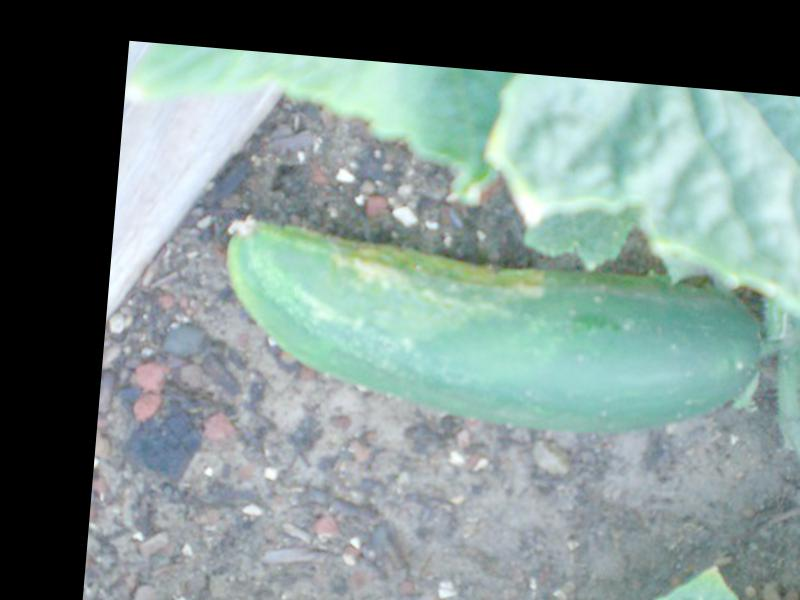Cucumber: (214, 215, 767, 445)
